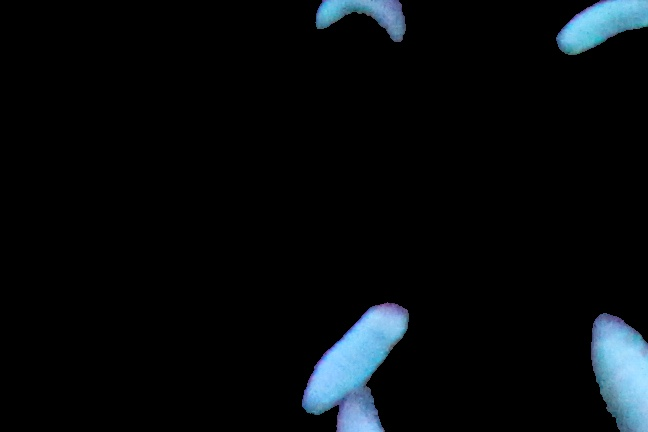larvae: (300, 301, 407, 428), (590, 311, 648, 432), (551, 1, 648, 61), (308, 1, 413, 47)
